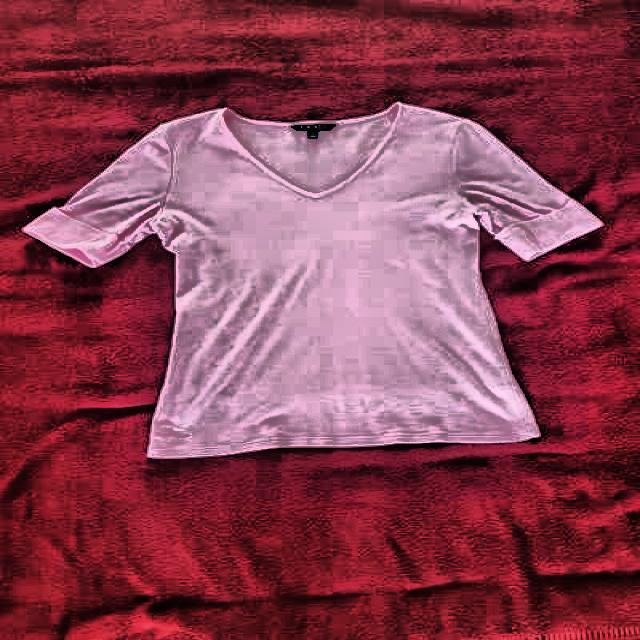clothes: (19, 102, 610, 462)
